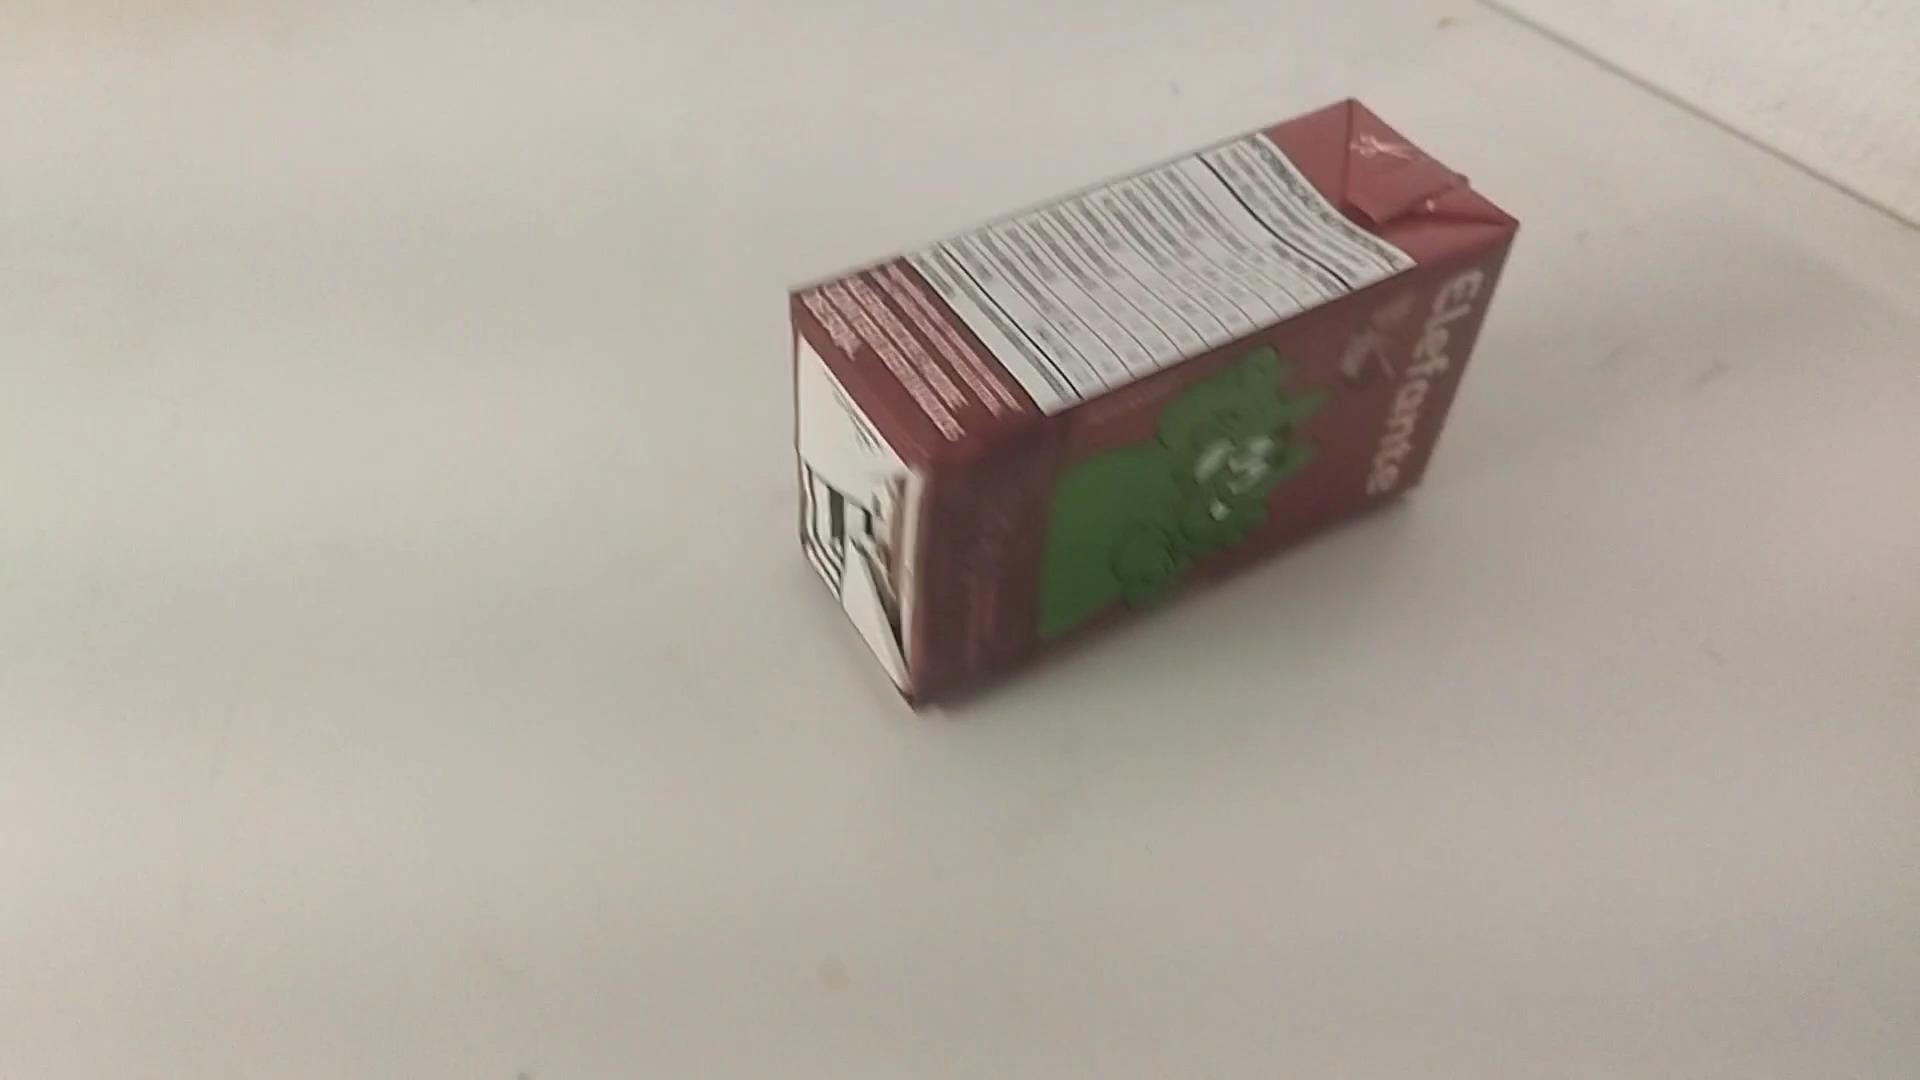tomate: (777, 88, 1516, 724)
